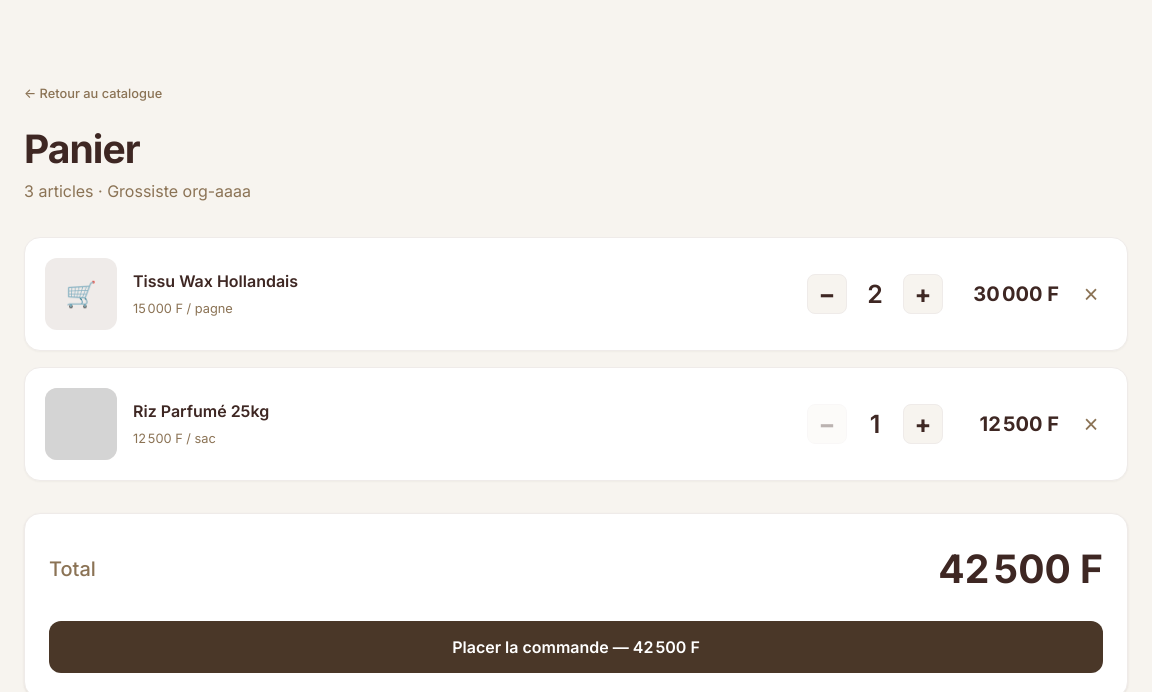
Cart Page — UC-11 / UC-12 › Checkout flow › shows API error message
Click the button with test id "checkout-btn". click: (576, 646)
box: [49, 620, 1103, 672]
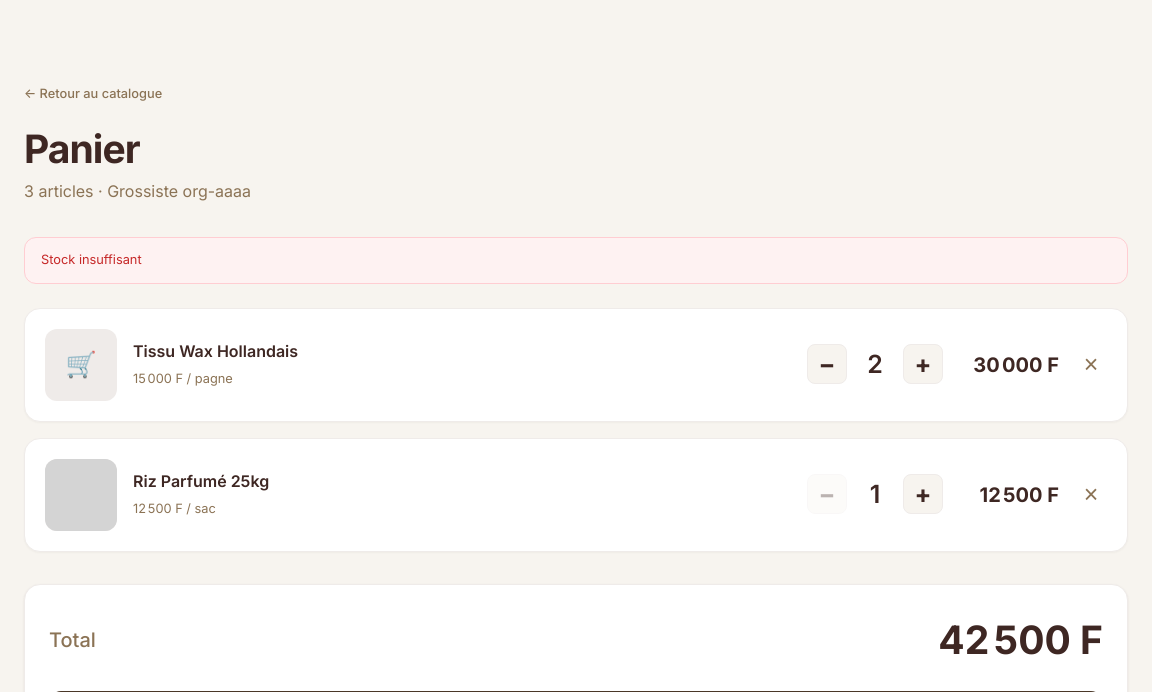
Now the text "Stock insuffisant" is shown, box [41, 252, 142, 267]
